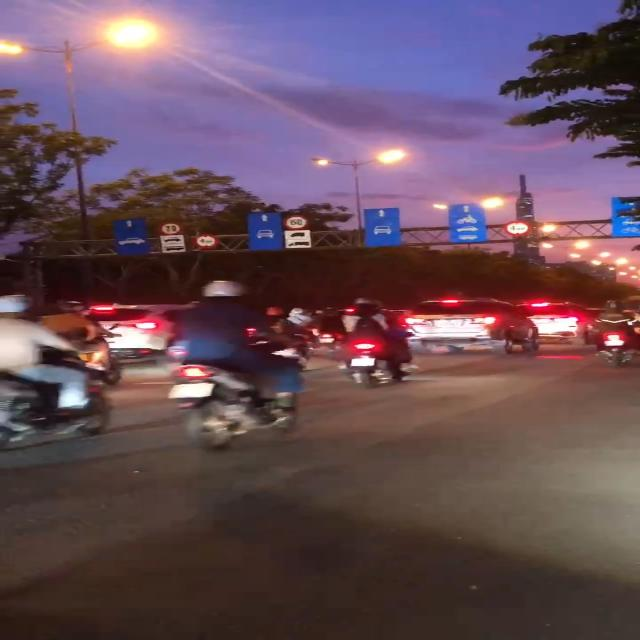Bien bao han che chieu cao: (194, 234, 219, 250)
Bien bao toc do toi da cho phep: (157, 222, 183, 235), (284, 216, 310, 229)
